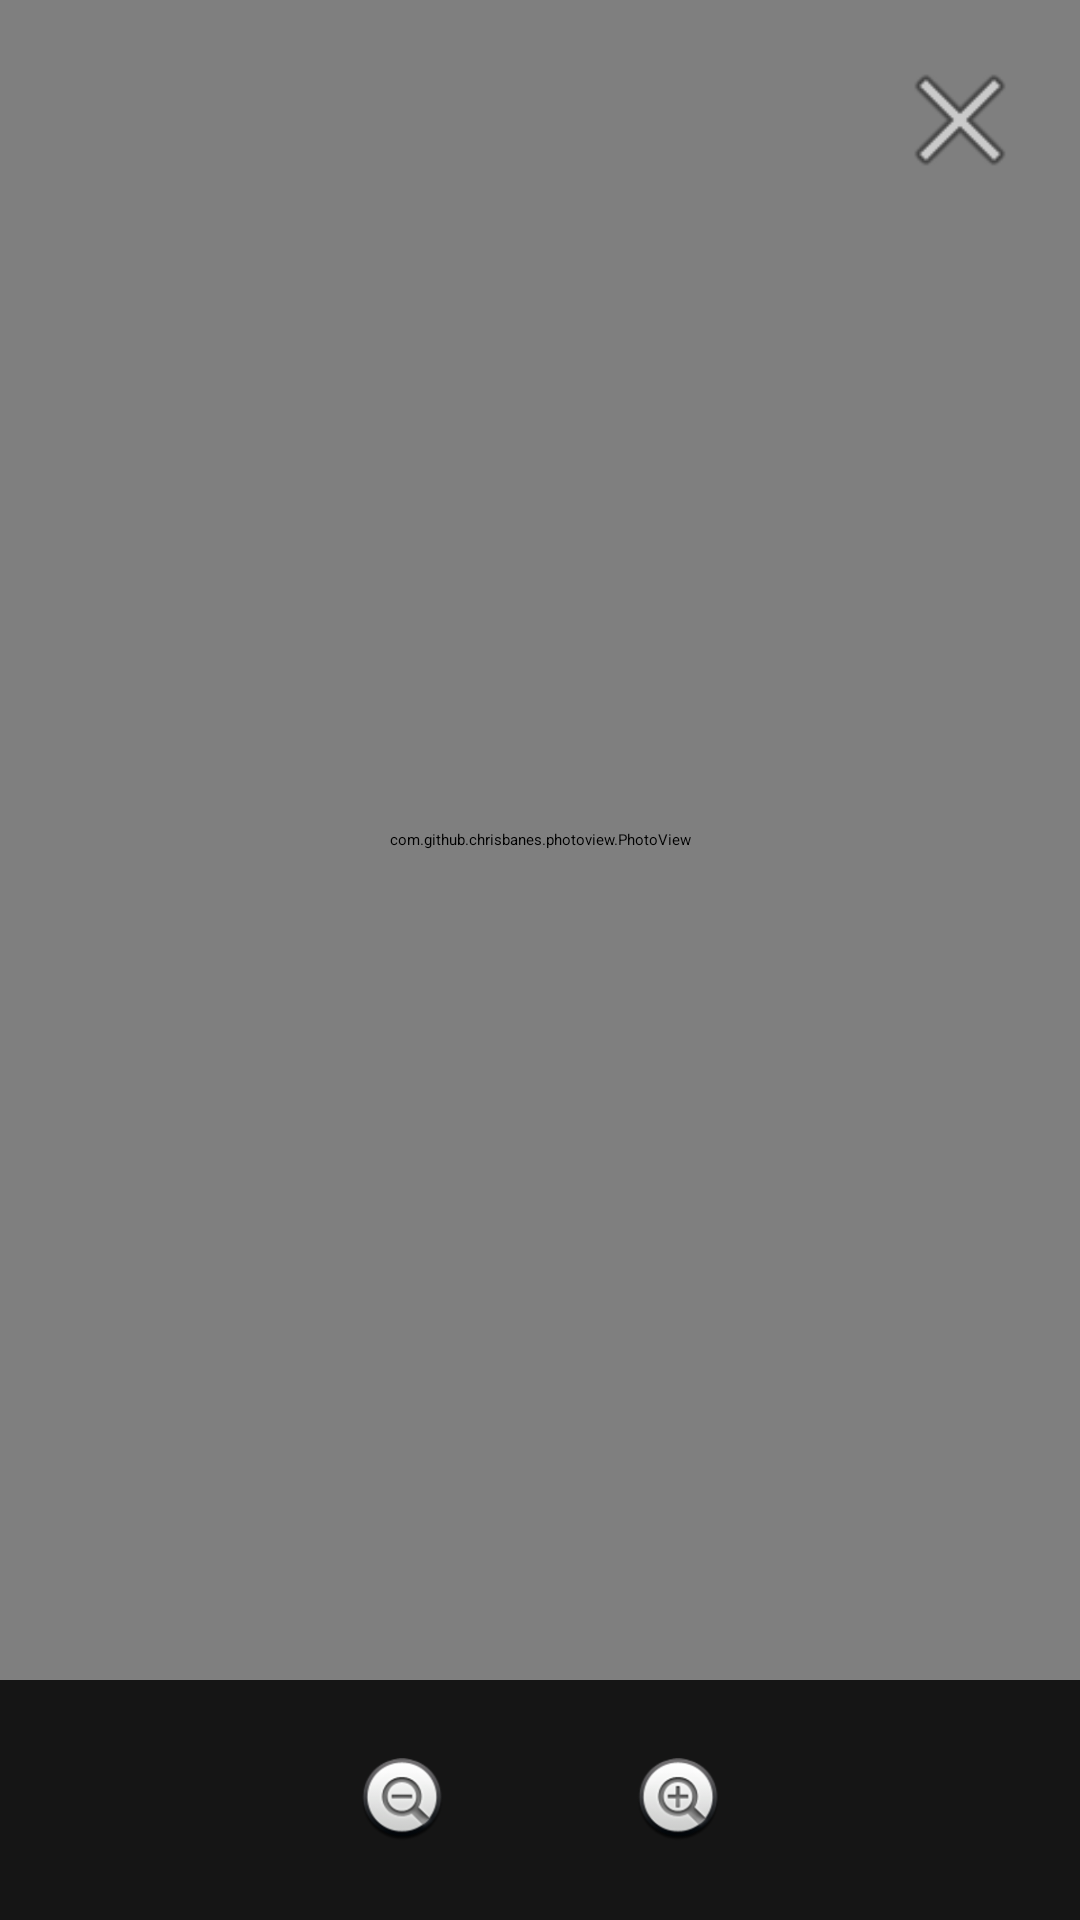

Named icons in this screenshot (1080 x 1920) and their centers, (x=x, y=y):
close clear cancel: (x=960, y=120)
minus: (x=402, y=1795)
plus: (x=678, y=1795)
